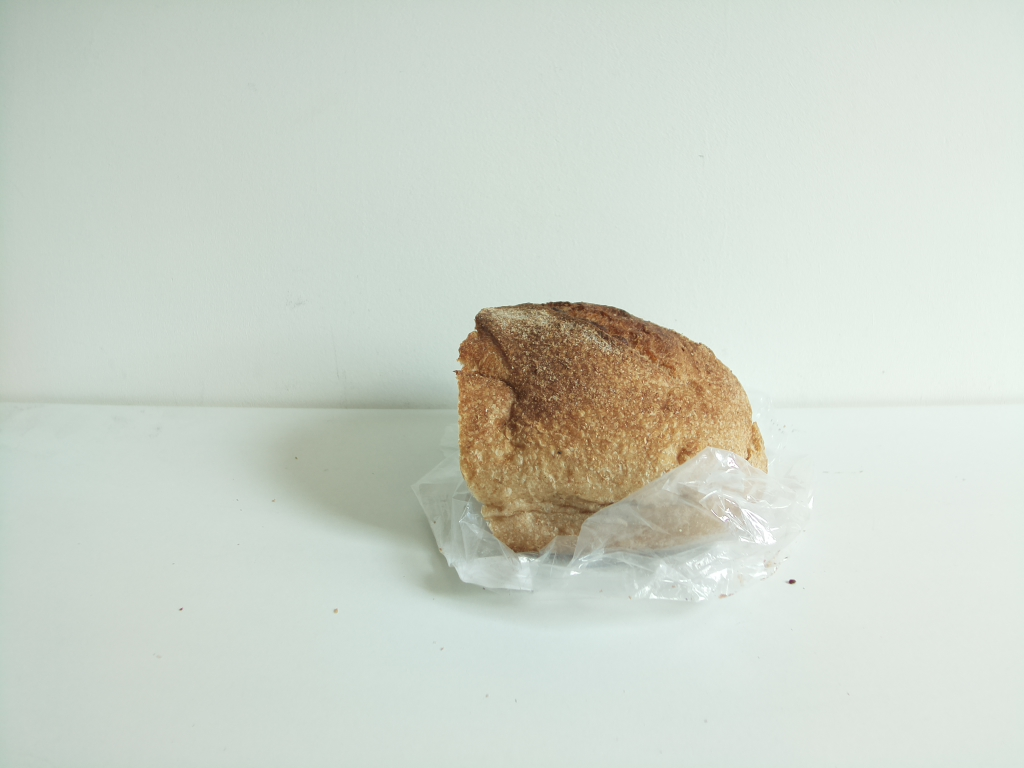bread: (454, 298, 773, 566)
